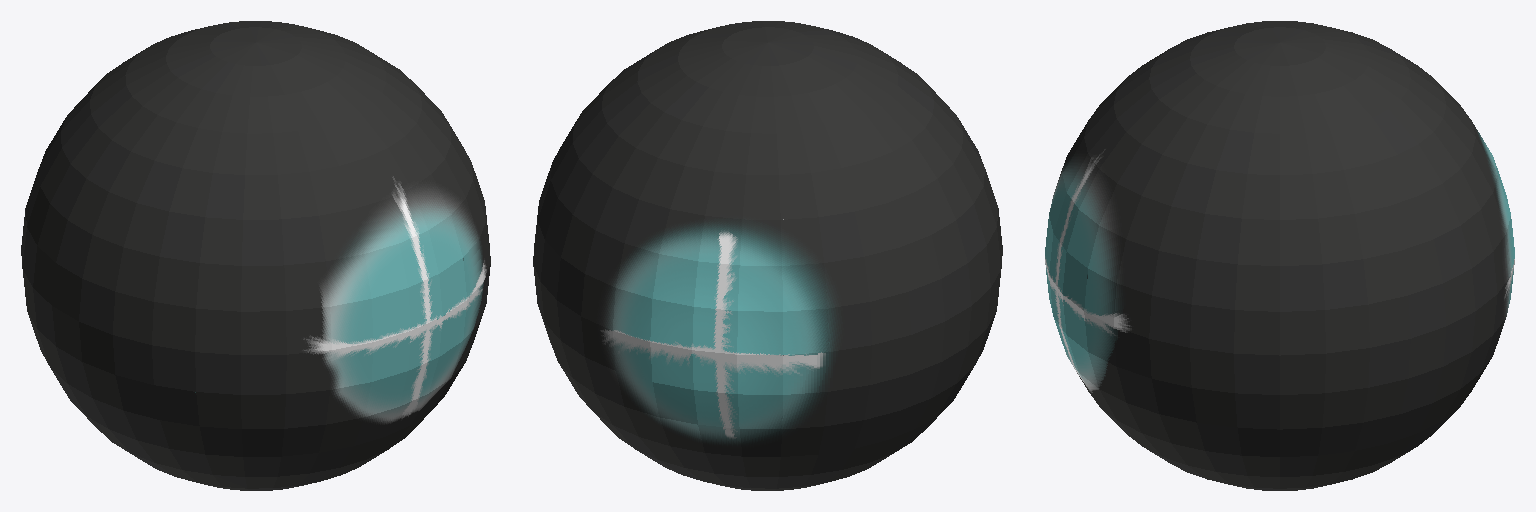
3 views of the same model, side by side, from view 1: azimuth 30°, elevation 25°; view 2: azimuth 150°, elevation 25°; view 3: azimuth 270°, elevation 25° (orthographic).
Parts seen in each view (by area): view 1: Sphere; view 2: Sphere; view 3: Sphere.
Part boxes in pixels (x1,y1,x2,y2): Sphere: (21,21,490,490); Sphere: (533,21,1002,490); Sphere: (1045,21,1514,490).
Size of the model in its own units: 0.1297 by 0.1297 by 0.1297.
1 materials, 1 textured.